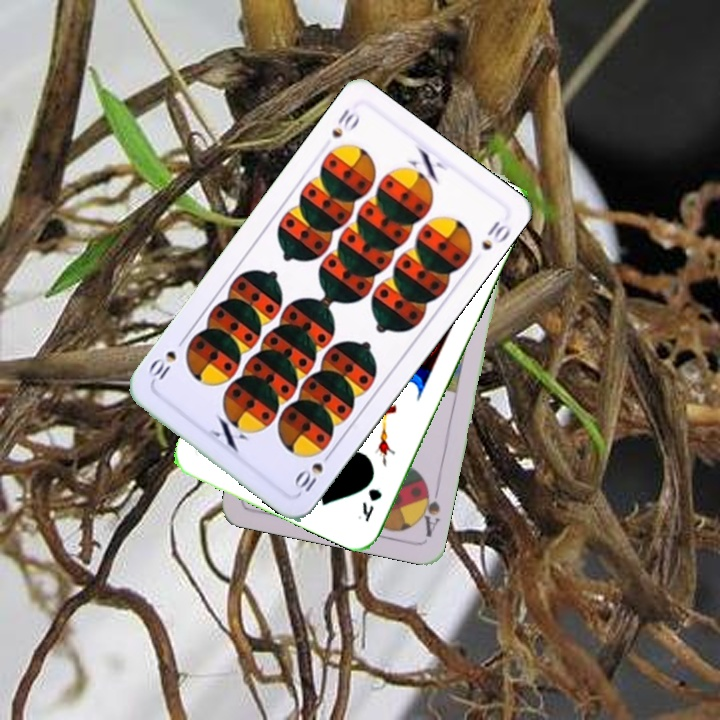GK: (353, 484, 385, 524)
S10: (289, 443, 336, 497), (327, 104, 363, 141)
SA: (414, 479, 443, 540)
